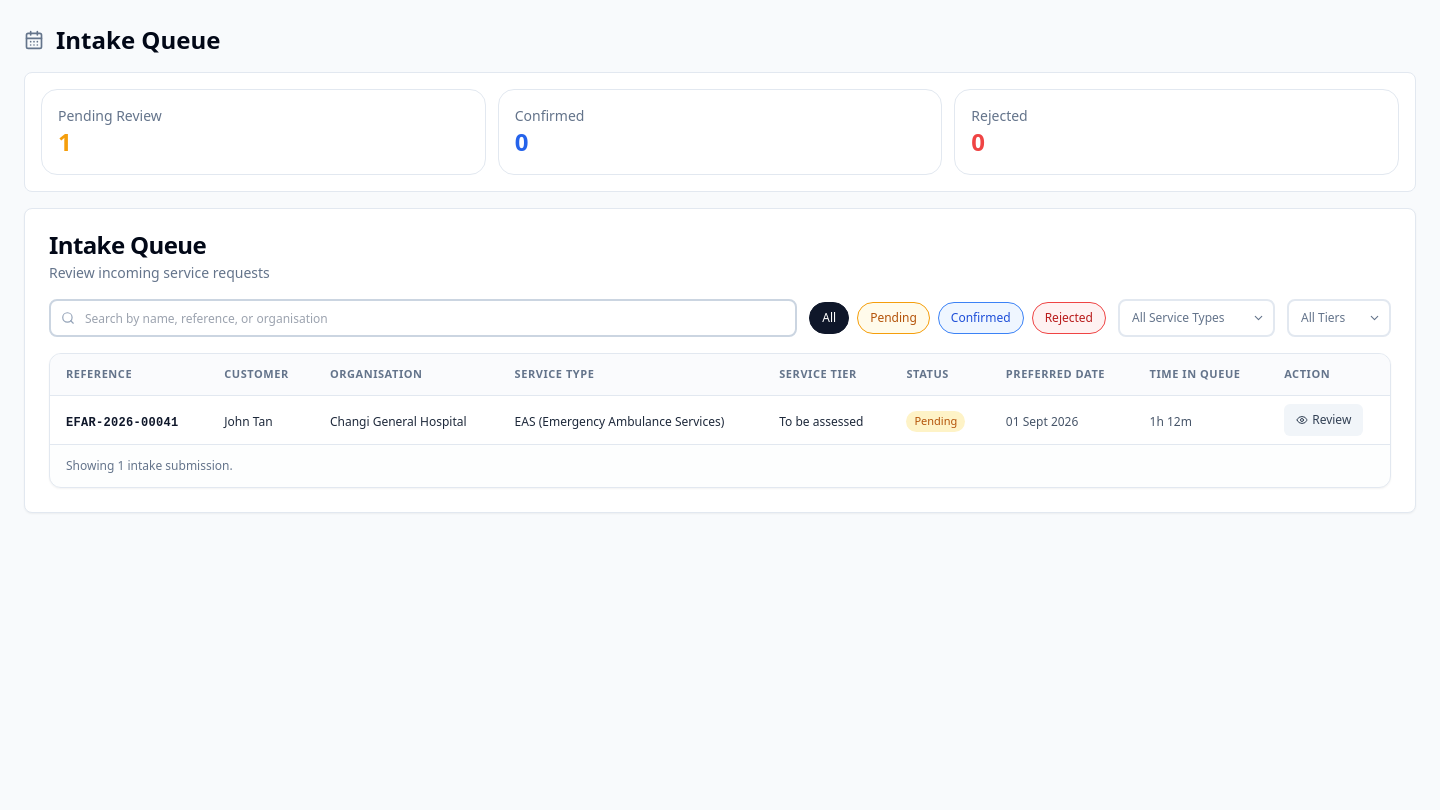
Test: IntakeQueuePage - quotations owns service-tier selection › shows an unassessed customer tier and requires quotations to select one
The width and height of the screenshot is (1440, 810).
Expected: the text "To be assessed" is shown, [779, 413, 863, 430]
Click the button "Review" at (1324, 420), box [1284, 404, 1363, 436]
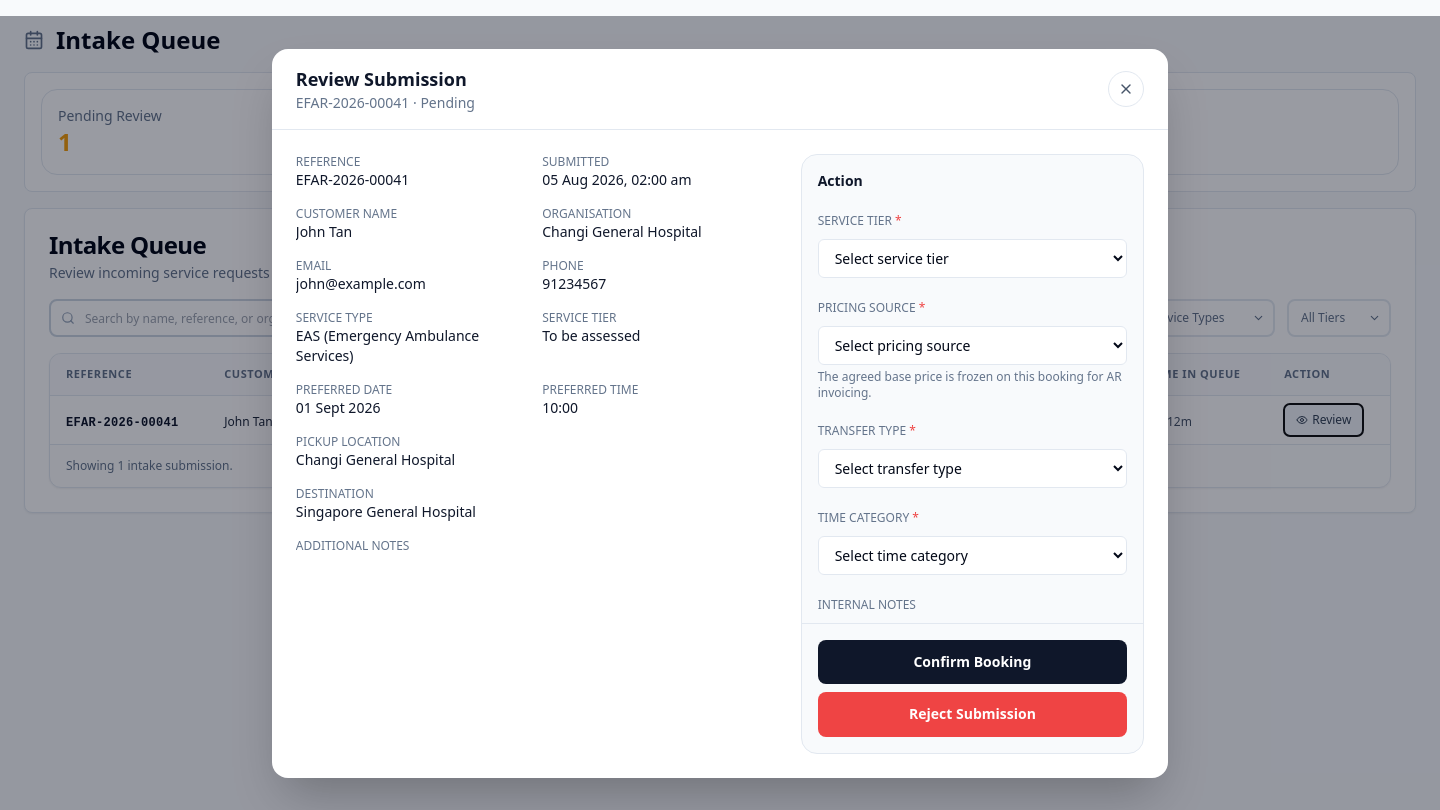
Result: the dropdown labelled "Service Tier *" shows "Select service tier" at [818, 238, 1127, 278]
Click the button "Confirm Booking" at (972, 662), box [818, 640, 1127, 684]
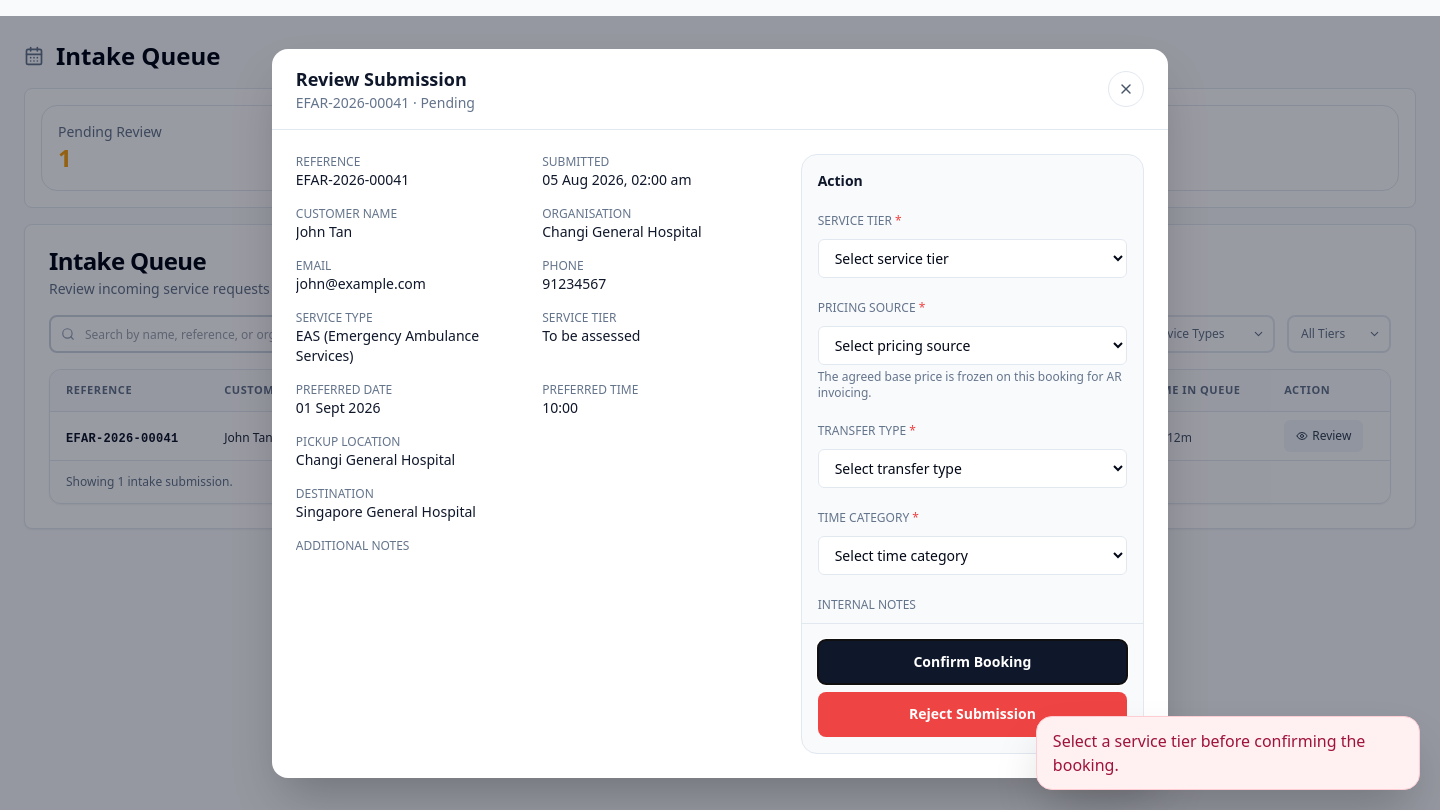
Result: the text "Select a service tier before confirming the booking." is shown at [1036, 716, 1420, 790]
